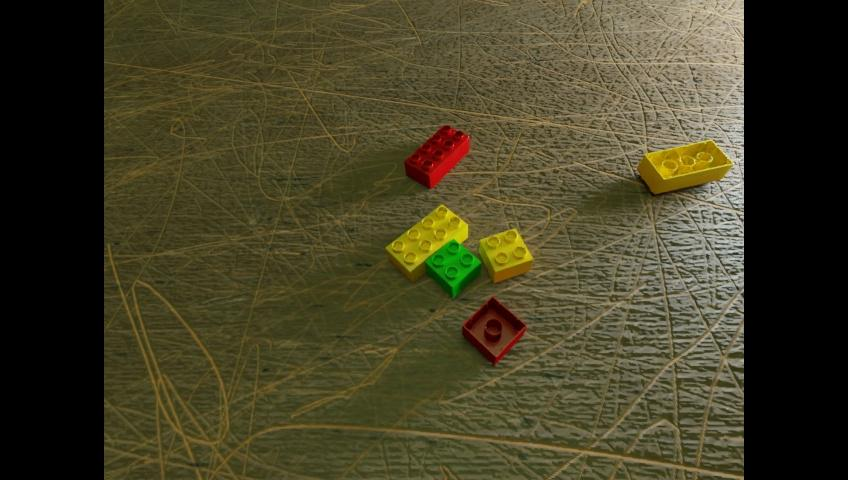2x2_green: (425, 238, 480, 297)
2x2_red: (462, 295, 526, 364)
2x2_yellow: (479, 228, 532, 282)
4x2_red: (404, 124, 468, 189)
4x2_yellow: (385, 204, 467, 282), (636, 139, 733, 193)
